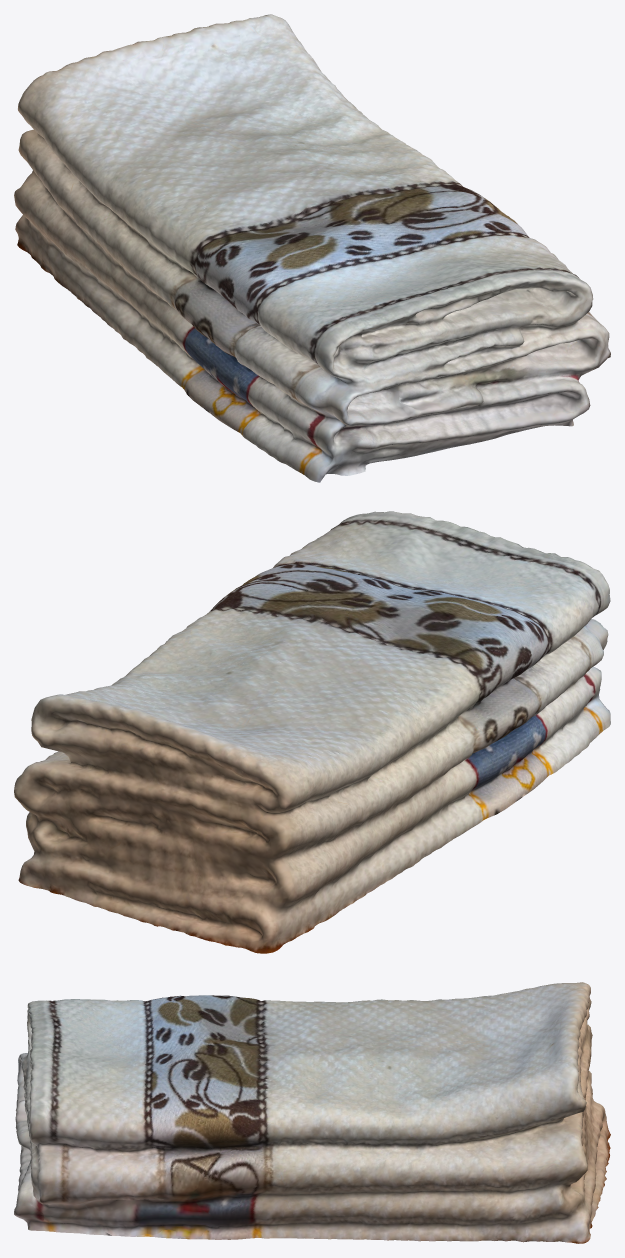
The model's file is Folded Towels.fbx.
3 renders of one model, top to bottom at view 1: azimuth 30°, elevation 25°; view 2: azimuth 150°, elevation 25°; view 3: azimuth 270°, elevation 25°, orthographic. The views are drawn at different scales.
Visible parts, largest first — view 1: towels; view 2: towels; view 3: towels.
Boxes of the visible parts, x1,y1,x2,y2 form: towels: [14, 14, 610, 482]; towels: [14, 511, 610, 953]; towels: [14, 982, 610, 1243].
Bounding box in the file's own units: 36.14 × 20.59 × 66.67.
Materials: 1 (1 with a texture image).
